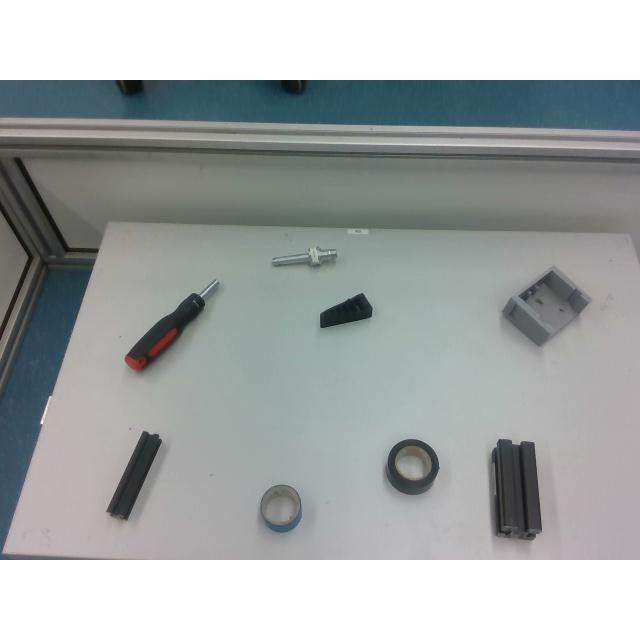F20_20_B: (106, 431, 162, 521)
S40_40_B: (492, 438, 542, 542)
